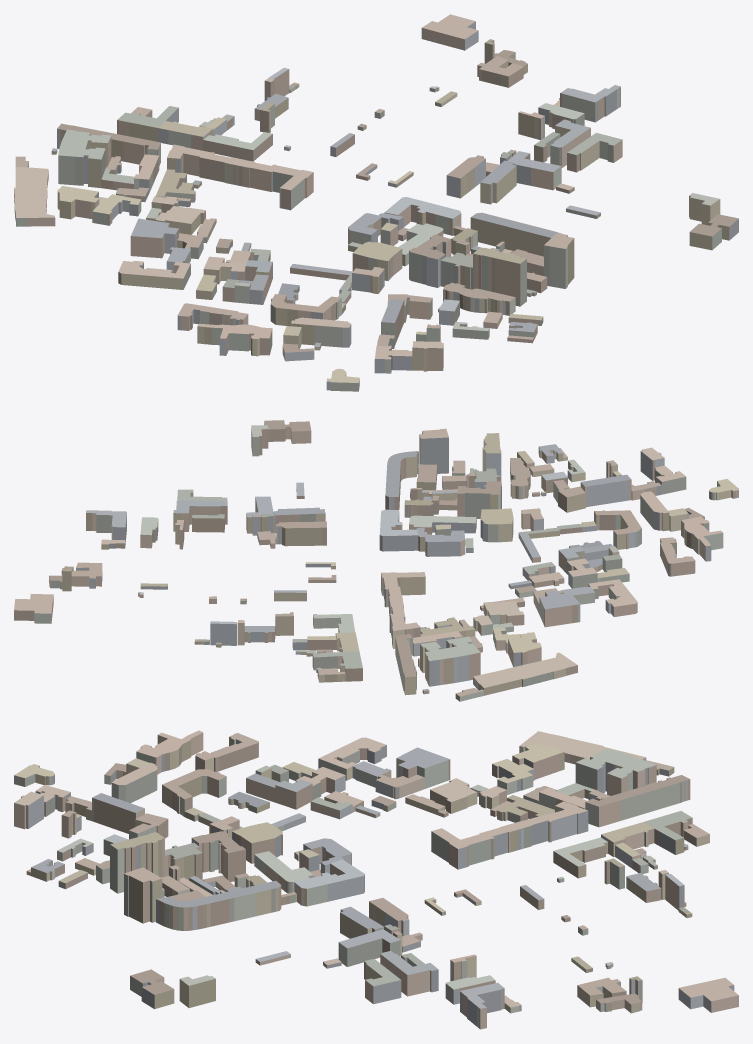
Rendered from moscow.glb.
The picture shows the model from 3 angles, top to bottom: view 1: azimuth 30°, elevation 25°; view 2: azimuth 150°, elevation 25°; view 3: azimuth 270°, elevation 25°; orthographic projection. The views are drawn at different scales.
Visible parts, largest first — view 1: moscow; view 2: moscow; view 3: moscow.
Part boxes in pixels (left/top/right/bottom): moscow: left=14, top=14, right=738, bottom=391; moscow: left=14, top=420, right=738, bottom=701; moscow: left=14, top=730, right=738, bottom=1029.
Size of the model in its own units: 697 by 49.5 by 737.
